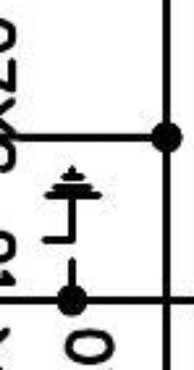115_gs: (39, 163, 106, 271)
